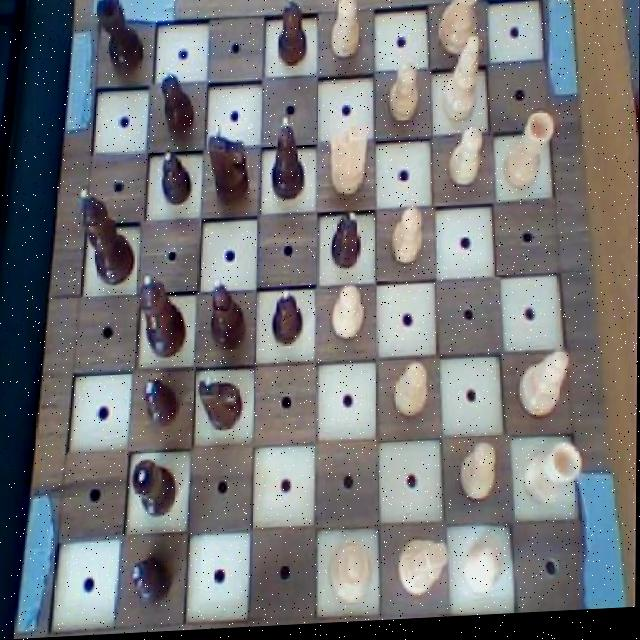bishop: (269, 117, 310, 207), (211, 276, 247, 359)
black-bishop: (74, 182, 137, 289)
black-king: (205, 125, 250, 214), (198, 373, 247, 438)
black-knight: (130, 548, 176, 613), (161, 64, 198, 142), (142, 372, 184, 437), (273, 0, 309, 73), (329, 211, 365, 274), (158, 148, 194, 210), (270, 286, 304, 350)
black-pawn: (138, 271, 194, 361)
black-queen: (90, 0, 146, 79), (130, 455, 182, 522)
black-rook: (517, 349, 573, 427), (441, 37, 487, 127)
white-bishop: (437, 0, 485, 67)
white-king: (394, 537, 452, 605), (327, 122, 371, 201)
white-knight: (455, 438, 502, 511), (449, 126, 485, 199), (328, 0, 366, 67), (390, 206, 428, 270), (392, 364, 431, 426), (462, 546, 504, 602), (387, 65, 423, 130), (332, 285, 371, 345)
white-pawn: (325, 540, 377, 609)
white-queen: (501, 113, 561, 199), (524, 444, 588, 516)
